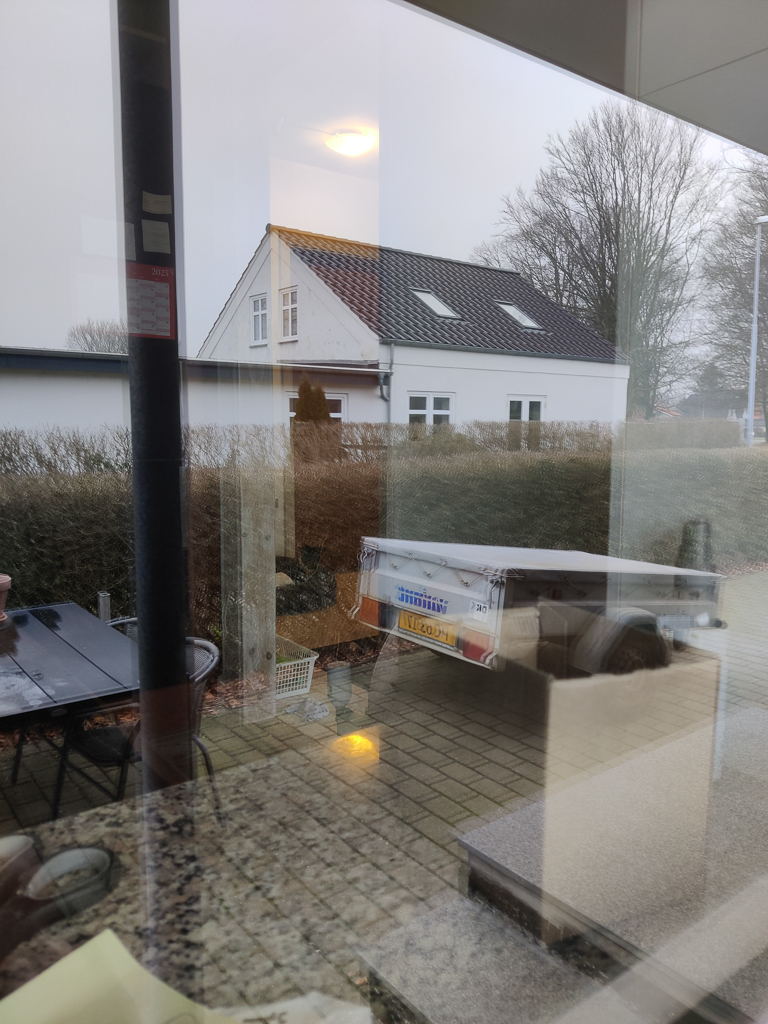Dog: (268, 535, 332, 588)
